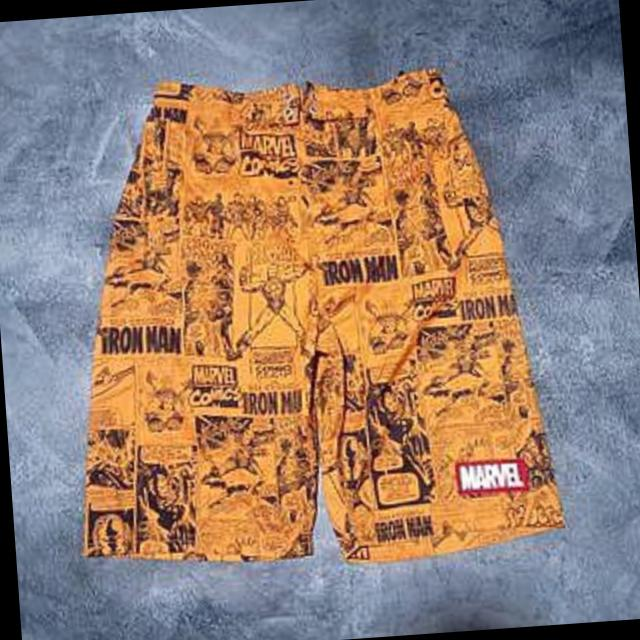SHORT: (45, 39, 594, 582)
